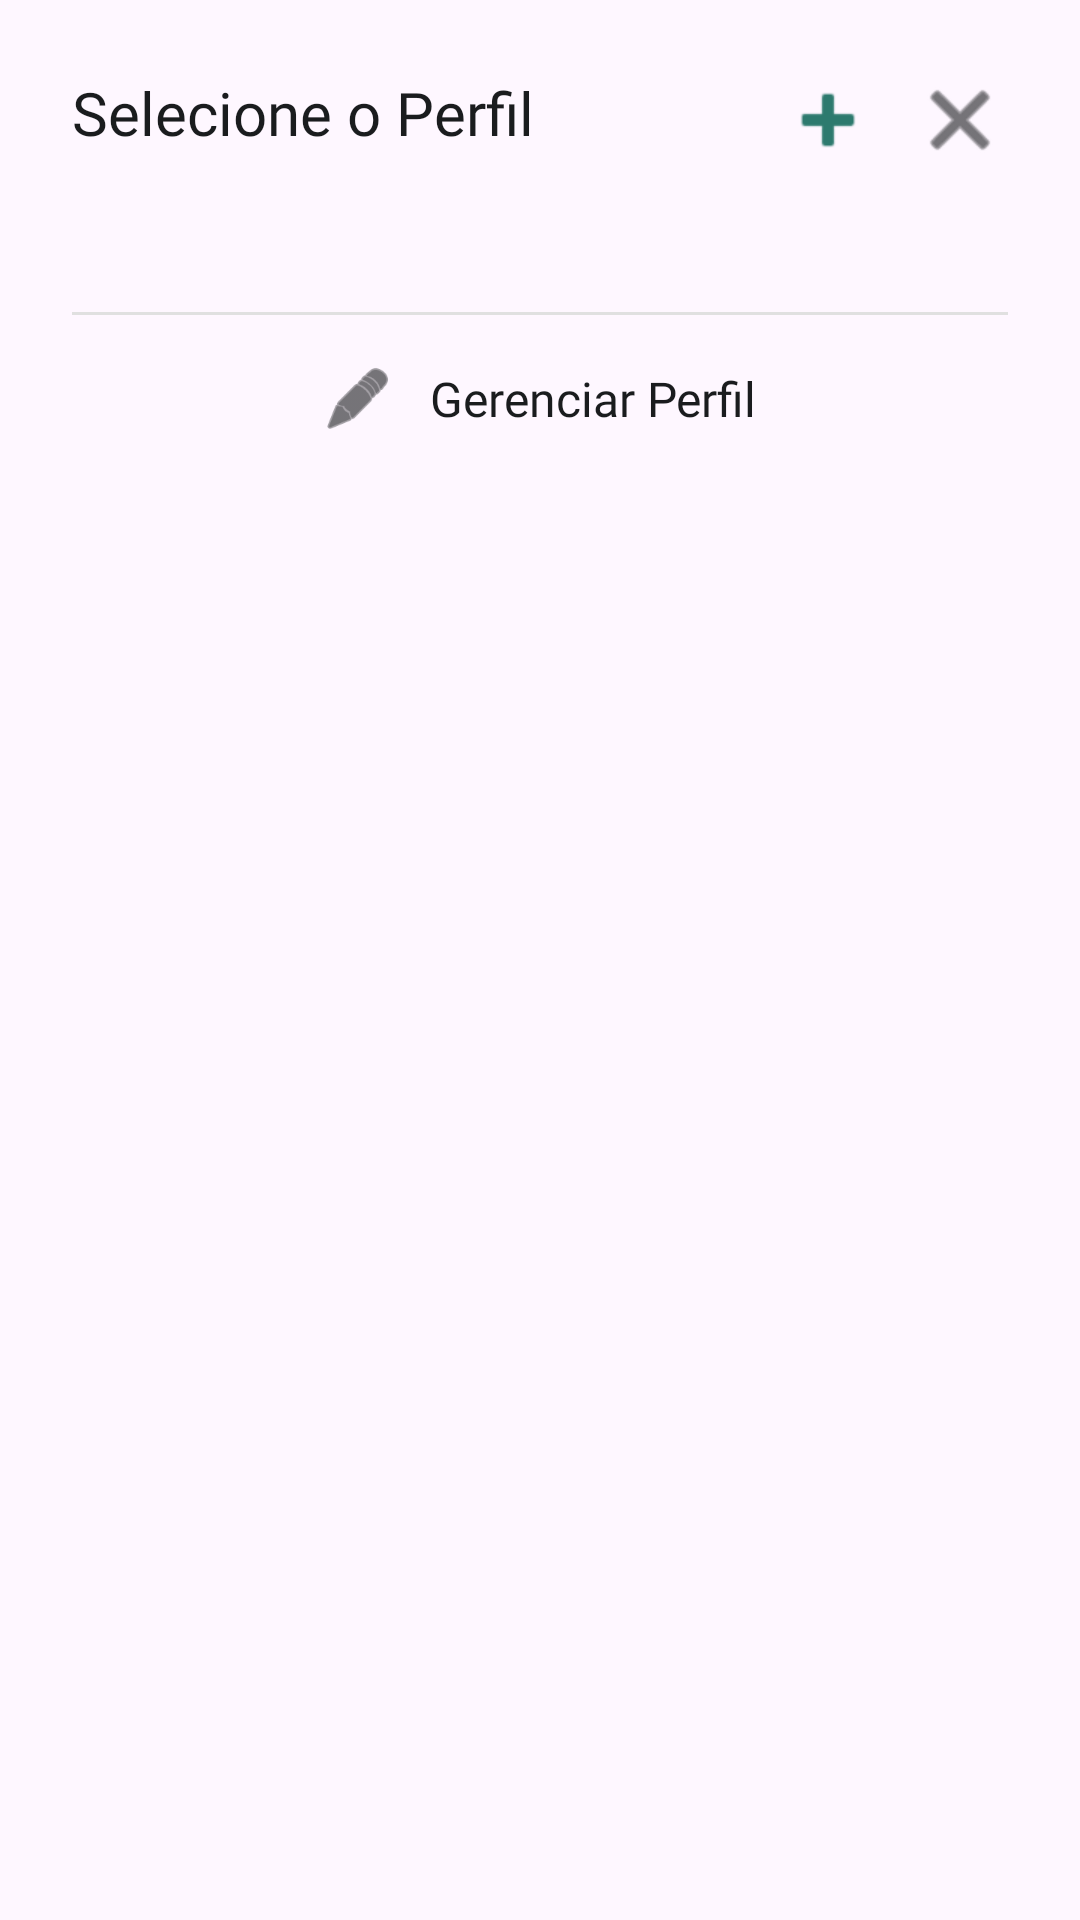

Icons on this 1080×1920 Android screen, each with the point to tap as (x,y):
add: (828,120)
close clear cancel: (960,120)
edit: (357,398)
